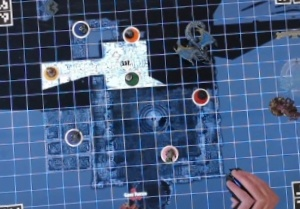blue: (68, 17, 90, 39)
green: (120, 70, 139, 90)
orange: (120, 25, 142, 44)
pink: (159, 142, 180, 165)
red: (187, 85, 210, 107)
violet: (62, 123, 85, 147)
yellow: (43, 62, 59, 79)
